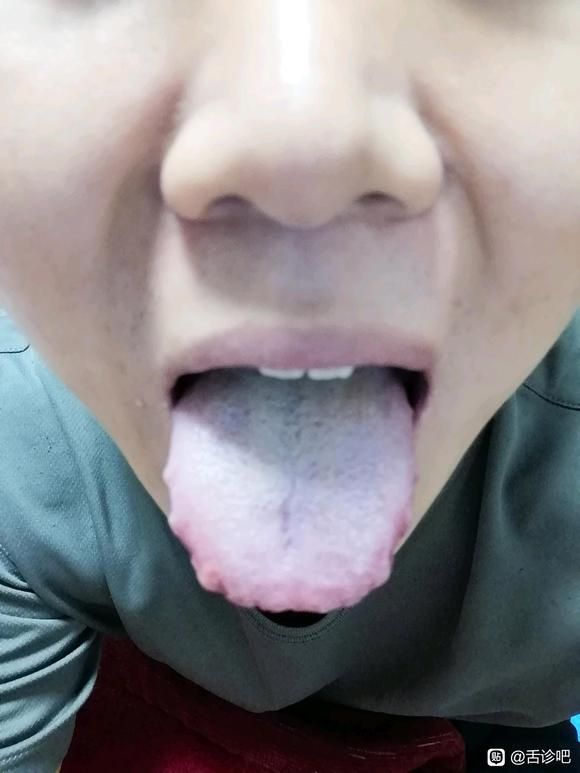baitaishe: (163, 364, 414, 614)
liewenshe: (277, 471, 299, 552)
